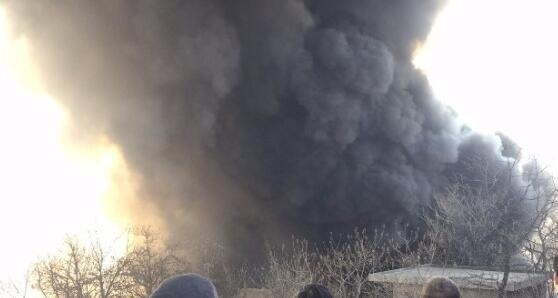fire: (0, 9, 136, 284)
